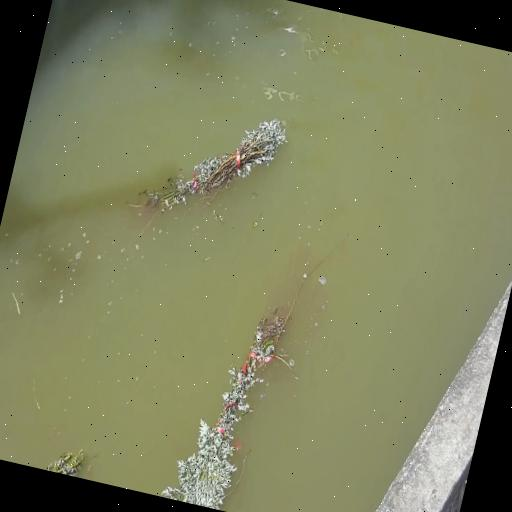twig: (162, 233, 348, 509), (127, 119, 285, 212), (47, 451, 84, 476)
